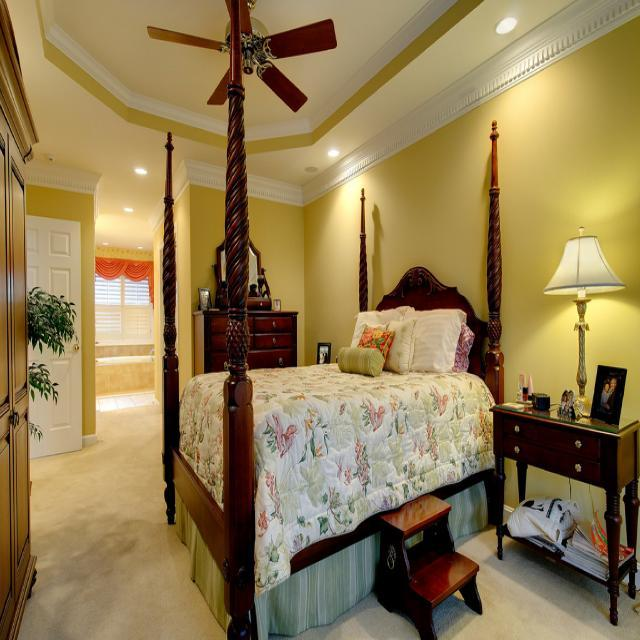fan_off: (145, 4, 338, 110)
